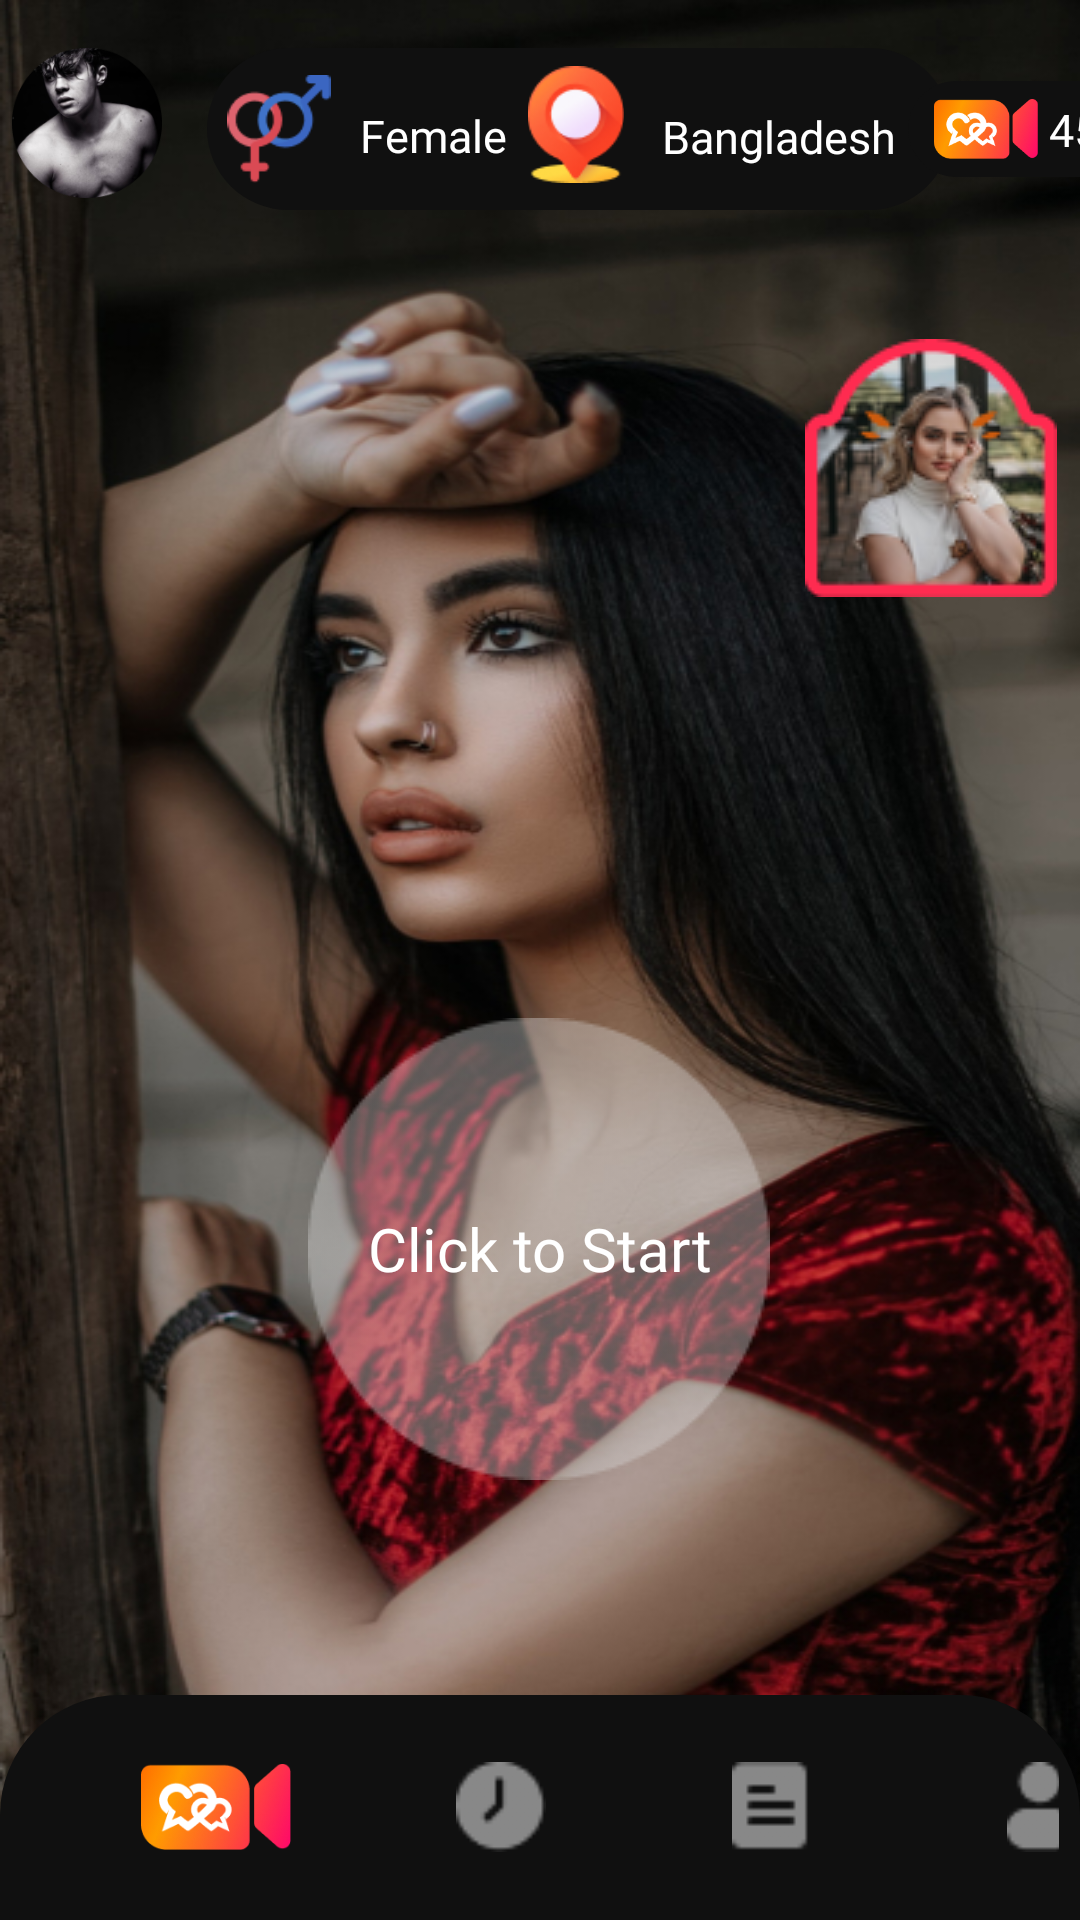

Icons on this 1080 × 1920 Android screen, each with its box as detection(x1, y1, x2, y2):
host: detection(805, 339, 1057, 597)
profile: detection(12, 48, 162, 198)
